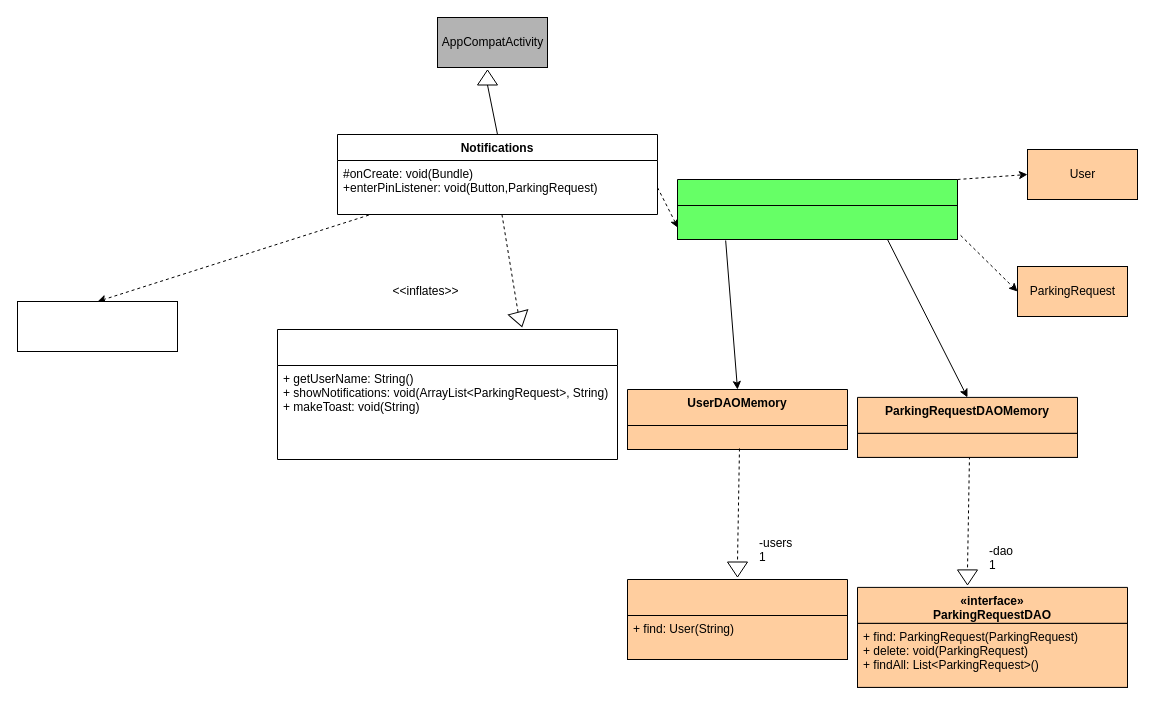
Some shapes in this 1155 by 708 pixel diagram are drawn without their labels. Each missing label, with the box of its shape:
+validateParking: void(ParkingRequest, Pin): (676, 204, 958, 240)
NotificationsPresenter: (676, 178, 958, 240)
«interface» NotificationsView: (276, 328, 618, 460)
«interface» UserDAO: (626, 578, 848, 660)
«layout» activity_notifications.xml: (16, 300, 178, 352)
